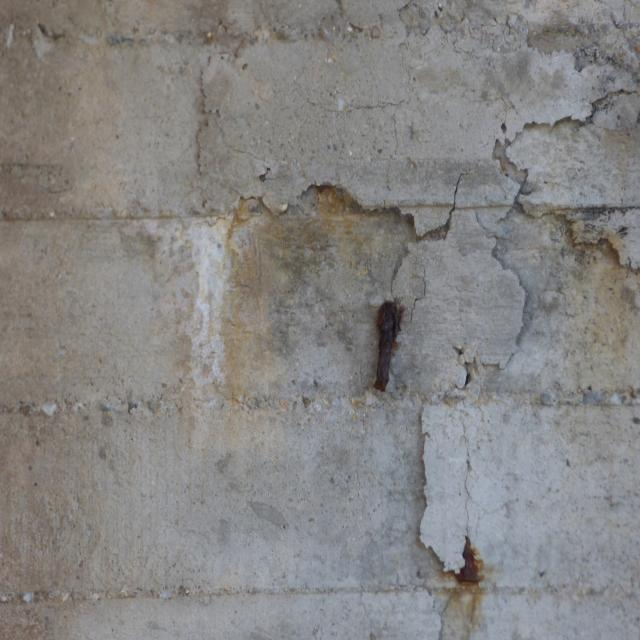corrosion: (224, 177, 362, 434), (504, 179, 636, 399), (365, 297, 408, 418), (437, 527, 491, 617)
